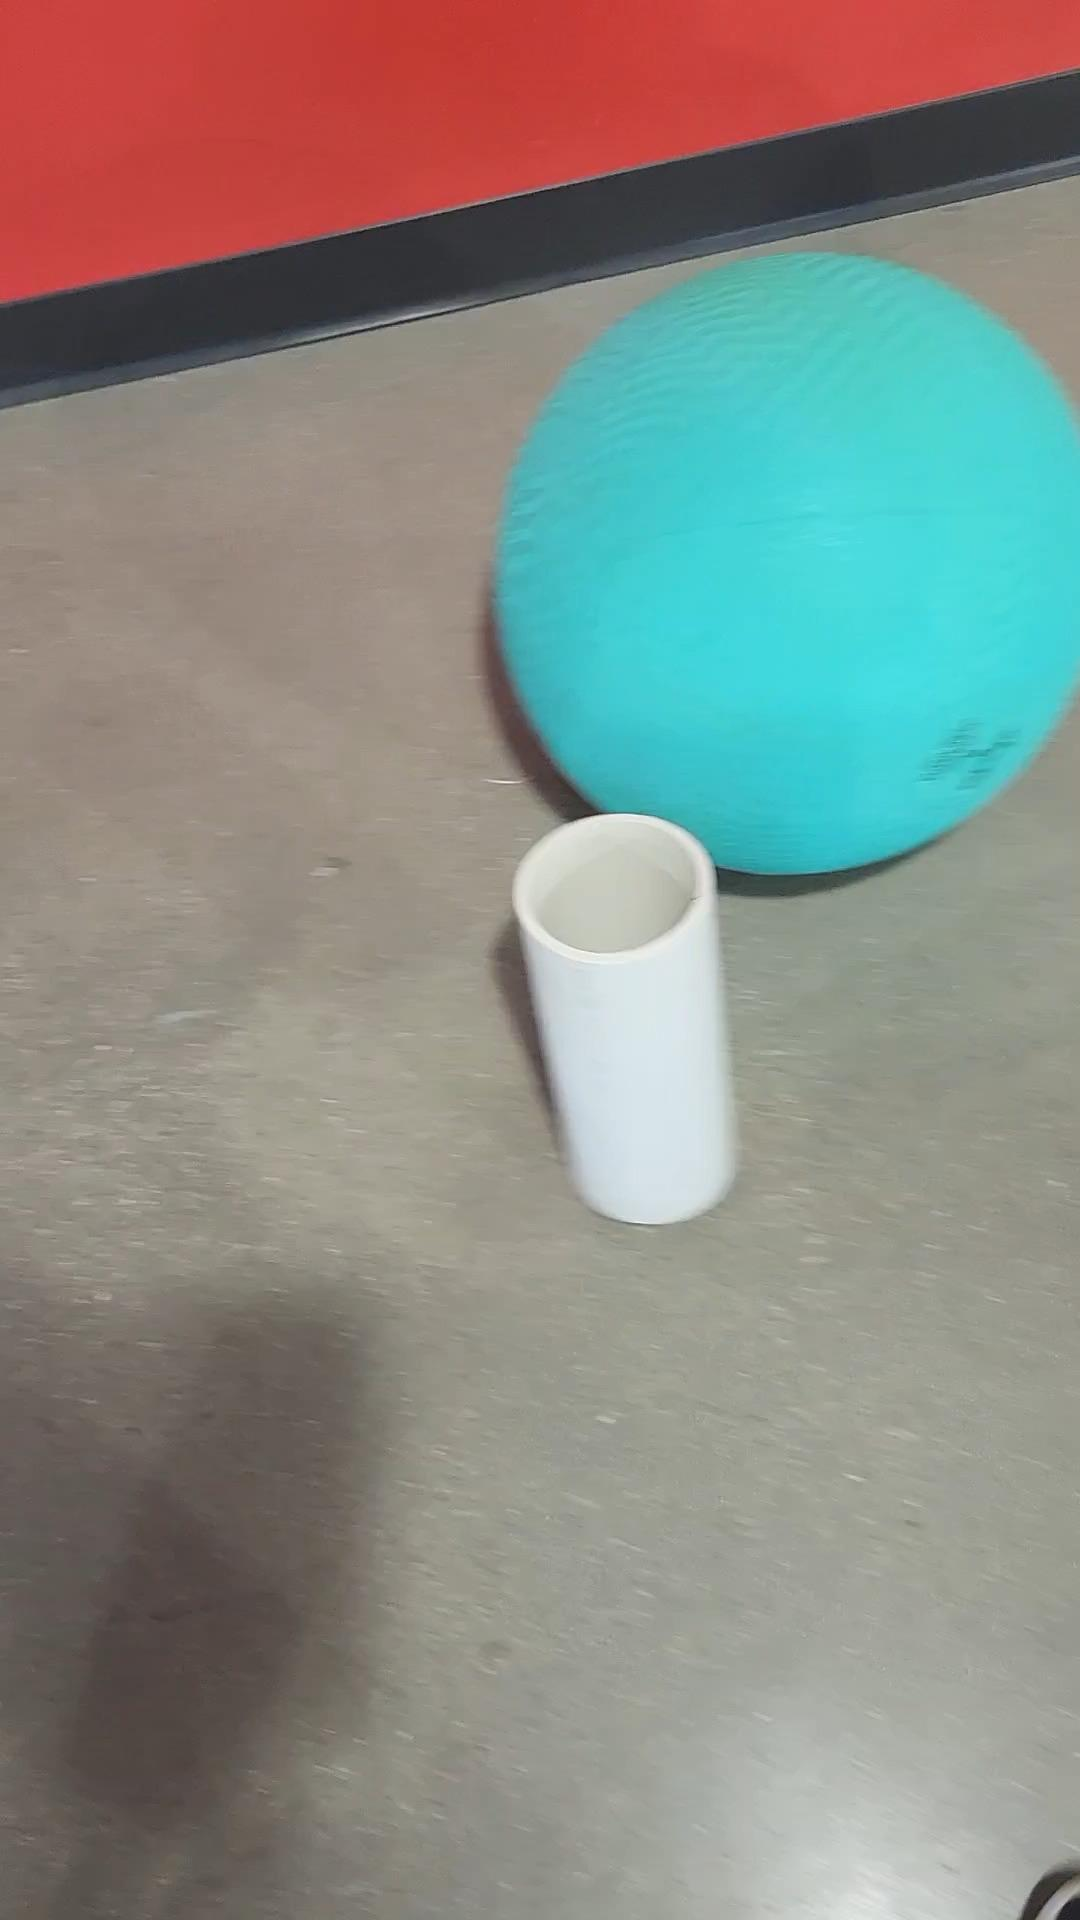algae: (481, 236, 1080, 861)
coral: (481, 775, 782, 1265)
